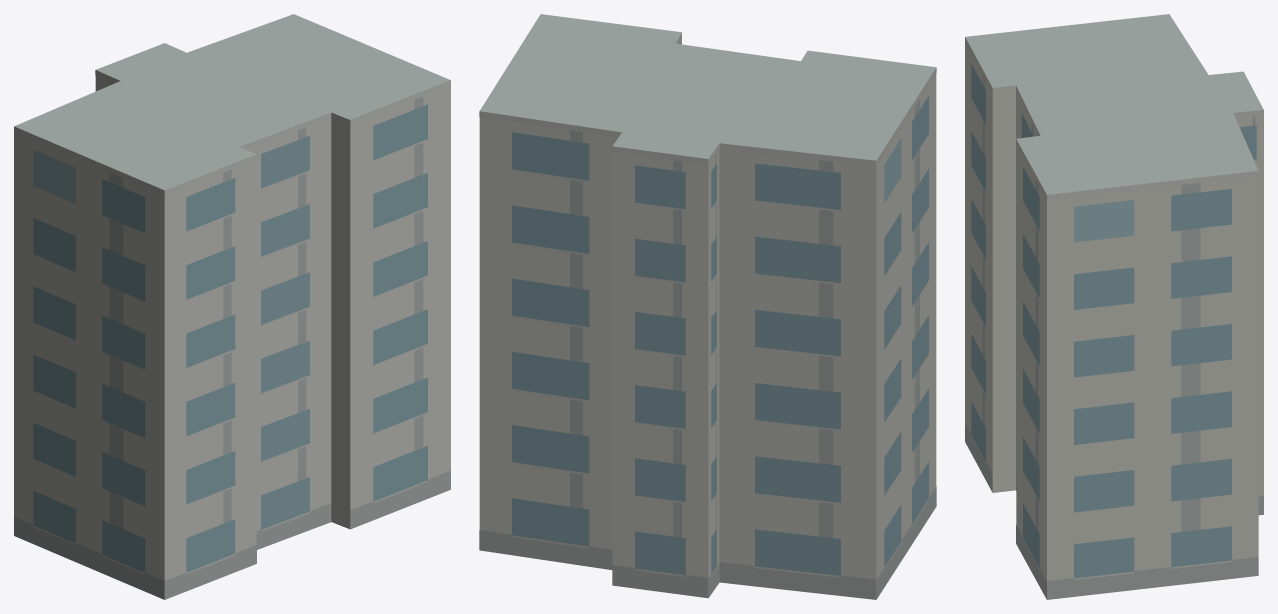
File: survey-upis-32990378.glb
The picture shows the model from 3 angles, left to right: view 1: azimuth 30°, elevation 25°; view 2: azimuth 150°, elevation 25°; view 3: azimuth 270°, elevation 25°; orthographic projection. The views are drawn at different scales.
Visible parts, largest first — view 1: survey-upis-32990378.tmp; view 2: survey-upis-32990378.tmp; view 3: survey-upis-32990378.tmp.
Part boxes in pixels (x1=…): survey-upis-32990378.tmp: x1=14, y1=14, x2=450, y2=599; survey-upis-32990378.tmp: x1=479, y1=14, x2=936, y2=599; survey-upis-32990378.tmp: x1=965, y1=14, x2=1263, y2=599.
Size of the model in its own units: 17.34 by 18.09 by 12.1.
